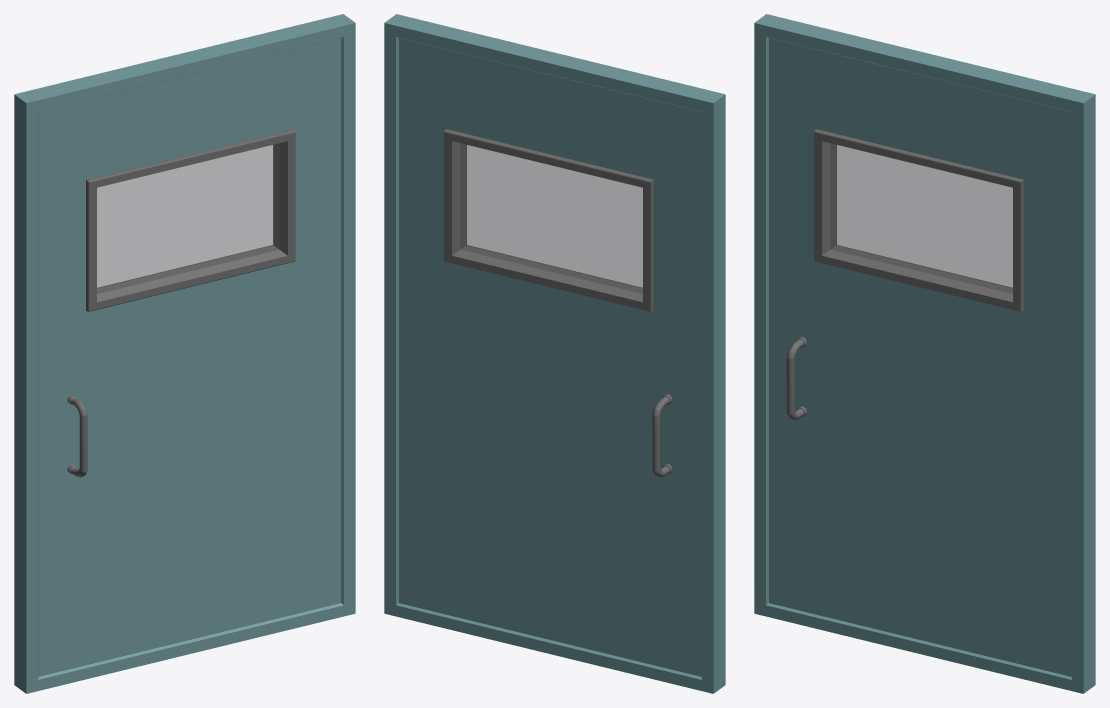
Rendered from Lab_Door.fbx.
3 renders of one model, left to right at view 1: azimuth 30°, elevation 25°; view 2: azimuth 150°, elevation 25°; view 3: azimuth 330°, elevation 25°, orthographic.
Visible parts, largest first — view 1: Lab Door; view 2: Lab Door; view 3: Lab Door.
Boxes of the visible parts, left/top/right/bottom form: Lab Door: left=14, top=14, right=355, bottom=693; Lab Door: left=384, top=14, right=725, bottom=693; Lab Door: left=754, top=14, right=1095, bottom=693.
Size of the model in its own units: 1.4 by 2.4 by 0.2719.
